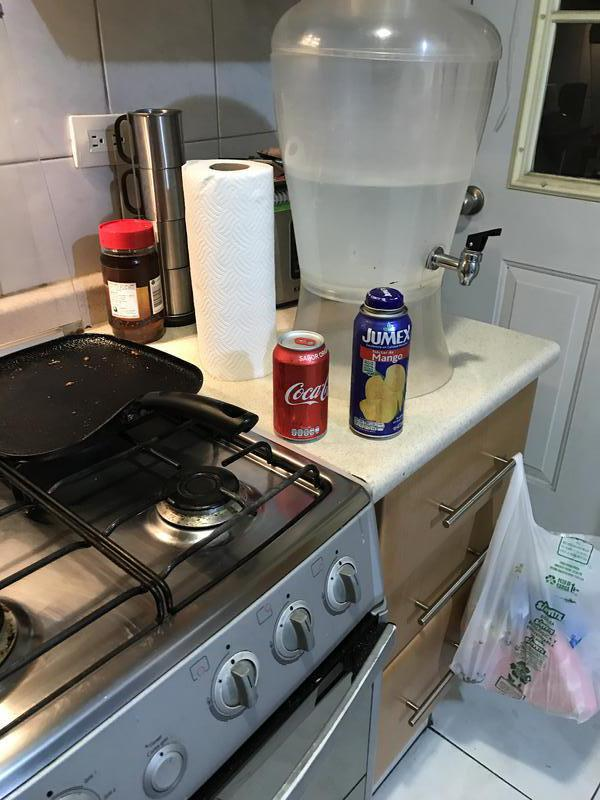coca_cola: (274, 332, 334, 444)
jugo_jumex: (351, 287, 412, 443)
